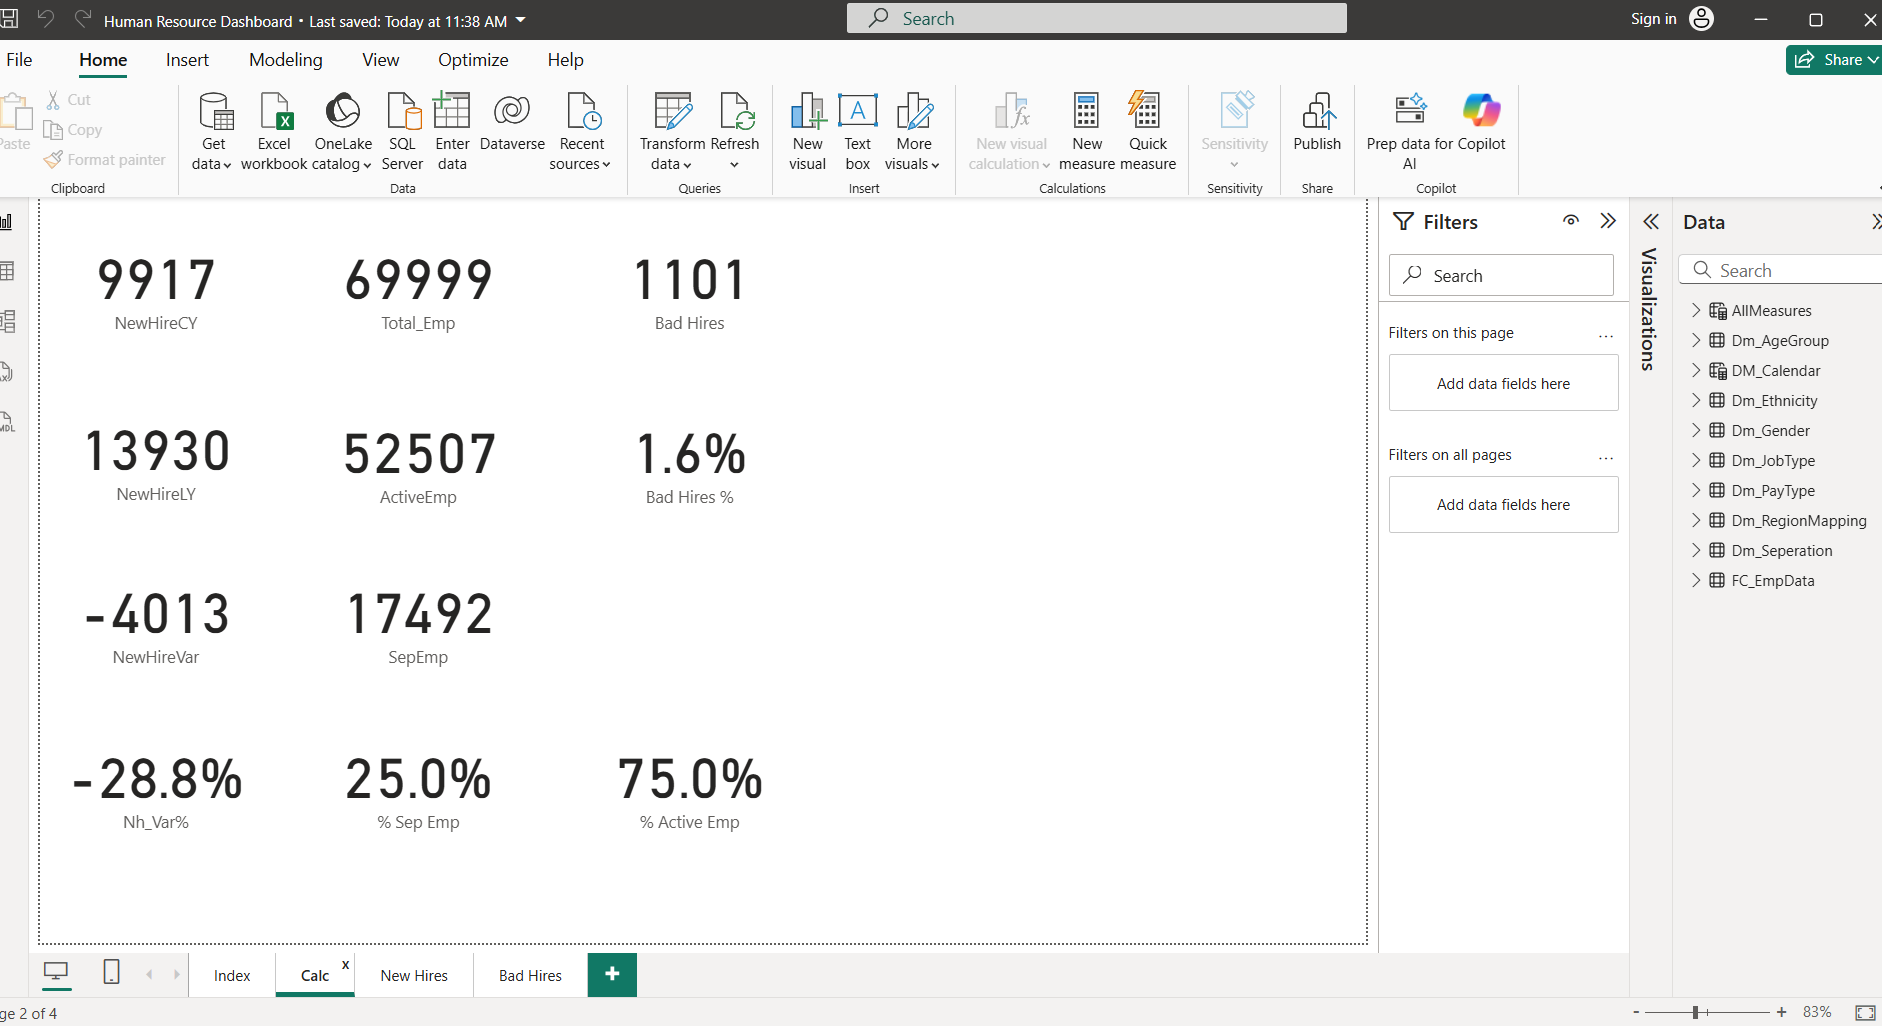

The page's visual inventory and layout, read from the dashboard file:
{"tool":"powerbi","page":{"name":"Calc","canvas":[1280,720],"ordinal":1},"visuals":[{"type":"card","fields":{"Values":["AllMeasures.NewHireCY"]},"box":[0,0,223.9,166.2],"z":0},{"type":"card","fields":{"Values":["AllMeasures.NewHireLY"]},"box":[0,175.8,223.9,144.2],"z":1},{"type":"card","fields":{"Values":["AllMeasures.NewHireVar"]},"box":[0,330,223.9,150],"z":2},{"type":"card","fields":{"Values":["AllMeasures.Nh_Var%"]},"box":[0,490,223.9,150],"z":3},{"type":"card","fields":{"Values":["AllMeasures.Total_Emp"]},"box":[253.4,0,223.9,166.2],"z":4},{"type":"card","fields":{"Values":["AllMeasures.ActiveEmp"]},"box":[253.4,175.8,223.9,150],"z":5},{"type":"card","fields":{"Values":["AllMeasures.SepEmp"]},"box":[253.4,330,223.9,150],"z":6},{"type":"card","fields":{"Values":["AllMeasures.% Sep Emp"]},"box":[253.4,490,223.9,150],"z":7},{"type":"card","fields":{"Values":["AllMeasures.Bad Hires"]},"box":[515,0,224,166],"z":8},{"type":"card","fields":{"Values":["AllMeasures.% Active Emp"]},"box":[515,490,224,150],"z":9},{"type":"card","fields":{"Values":["AllMeasures.Bad Hires %"]},"box":[515,175.8,224,150],"z":10}]}

Visuals, with their boxes on the page's 1280x720 design canvas (x1, y1, x2, y2). These are canvas units, not pixel positions in the 1882x1026 screenshot, which may show the page scaled, cropped or inside an application window:
card - AllMeasures.NewHireCY: crop(0, 0, 224, 166)
card - AllMeasures.NewHireLY: crop(0, 176, 224, 320)
card - AllMeasures.NewHireVar: crop(0, 330, 224, 480)
card - AllMeasures.Nh_Var%: crop(0, 490, 224, 640)
card - AllMeasures.Total_Emp: crop(253, 0, 477, 166)
card - AllMeasures.ActiveEmp: crop(253, 176, 477, 326)
card - AllMeasures.SepEmp: crop(253, 330, 477, 480)
card - AllMeasures.% Sep Emp: crop(253, 490, 477, 640)
card - AllMeasures.Bad Hires: crop(515, 0, 739, 166)
card - AllMeasures.% Active Emp: crop(515, 490, 739, 640)
card - AllMeasures.Bad Hires %: crop(515, 176, 739, 326)
